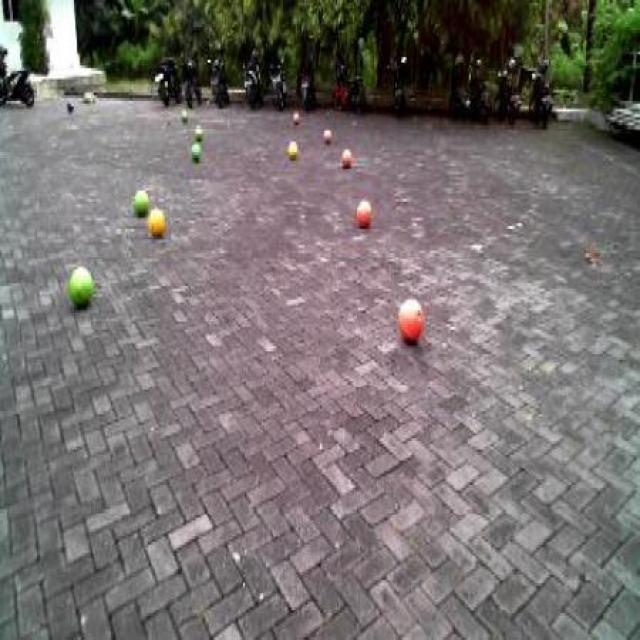buoy: (395, 292, 427, 348), (64, 257, 94, 312), (356, 190, 374, 232), (131, 178, 149, 217), (146, 204, 168, 234)
